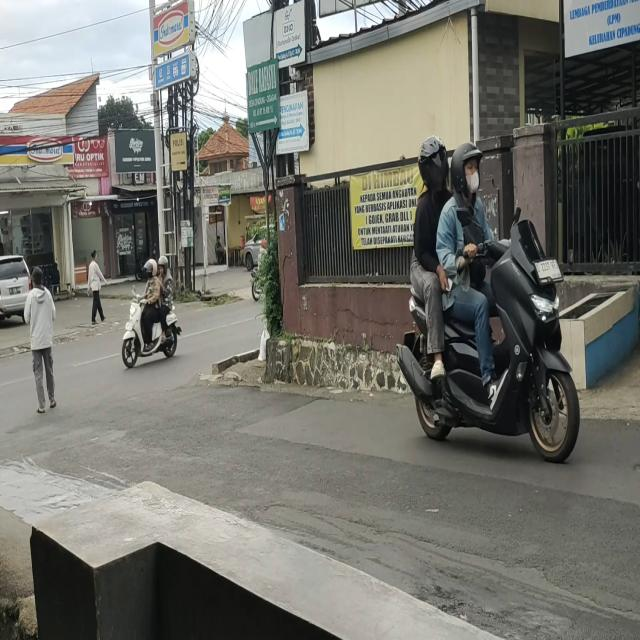helmet: (454, 145, 484, 205), (420, 140, 449, 198), (158, 256, 170, 281), (146, 256, 157, 283)
